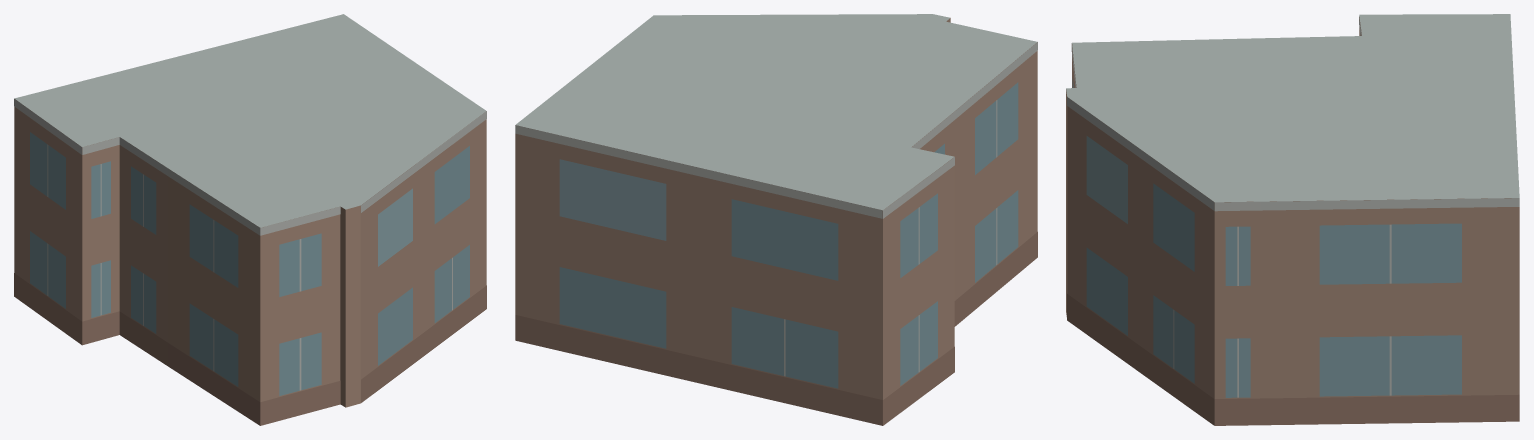
Rendered from survey-upis-32682437.glb.
3 views of the same model, side by side, from view 1: azimuth 30°, elevation 25°; view 2: azimuth 150°, elevation 25°; view 3: azimuth 270°, elevation 25° (orthographic). The views are drawn at different scales.
Visible parts, largest first — view 1: survey-upis-32682437.tmp; view 2: survey-upis-32682437.tmp; view 3: survey-upis-32682437.tmp.
Part boxes in pixels (box(x1,y1,x2,y2)): survey-upis-32682437.tmp: box(14, 14, 486, 425); survey-upis-32682437.tmp: box(515, 14, 1037, 425); survey-upis-32682437.tmp: box(1066, 14, 1519, 425).
Size of the model in its own units: 11.02 by 6.1 by 11.22.
